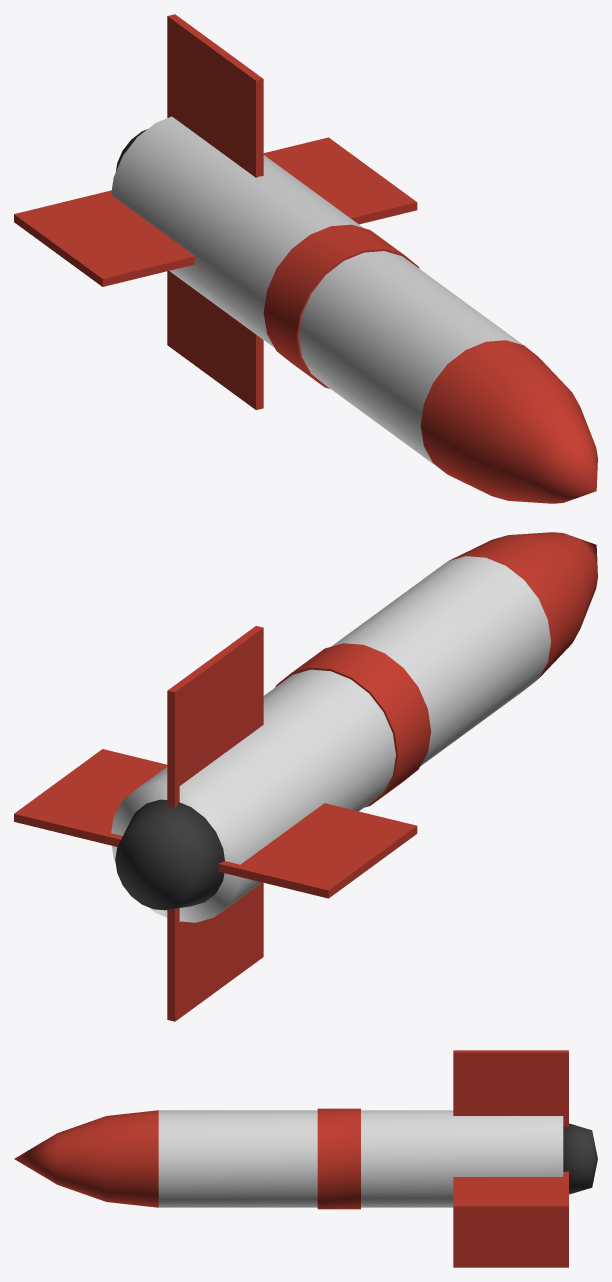
The model's file is rocket.glb.
The picture shows the model from 3 angles, top to bottom: view 1: azimuth 30°, elevation 25°; view 2: azimuth 150°, elevation 25°; view 3: azimuth 270°, elevation 25°; orthographic projection. The views are drawn at different scales.
Parts seen in each view (by area): view 1: rocket; view 2: rocket; view 3: rocket.
Boxes of the visible parts, x1,y1,x2,y2 form: rocket: (14,14,597,503); rocket: (14,532,597,1021); rocket: (14,1050,597,1267).
Size of the model in its own units: 0.82 by 0.82 by 2.02.
